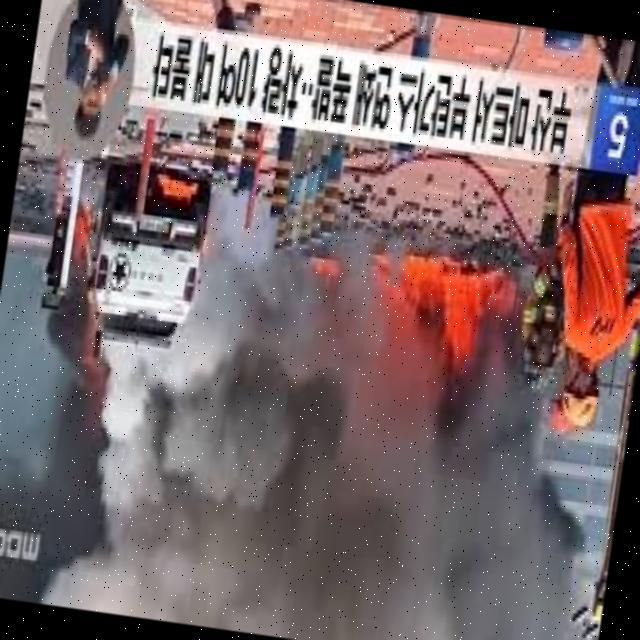explosion: (172, 121, 588, 541)
